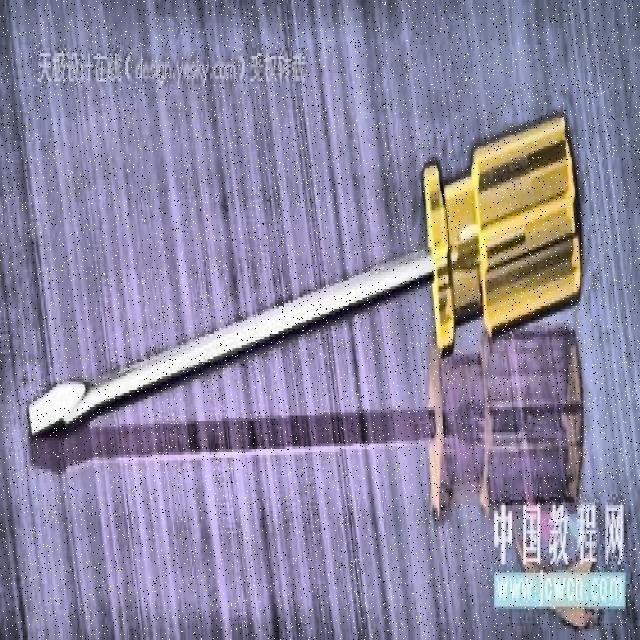screwdriver: (25, 112, 583, 440)
